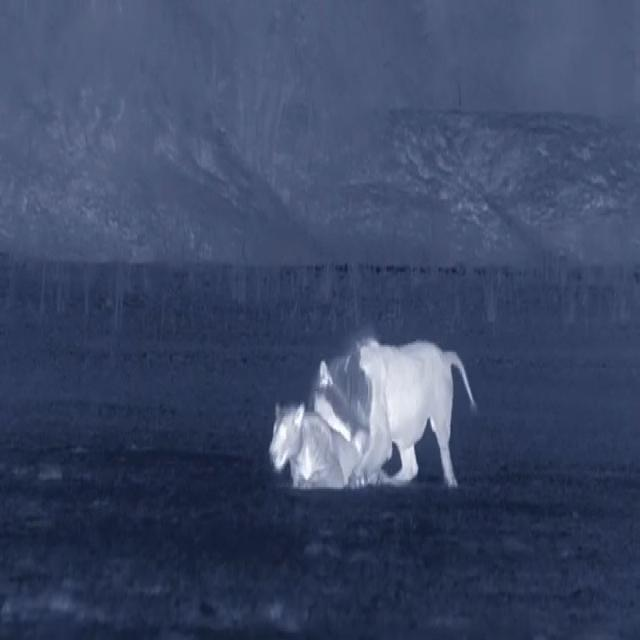animal: (256, 282, 503, 548)
